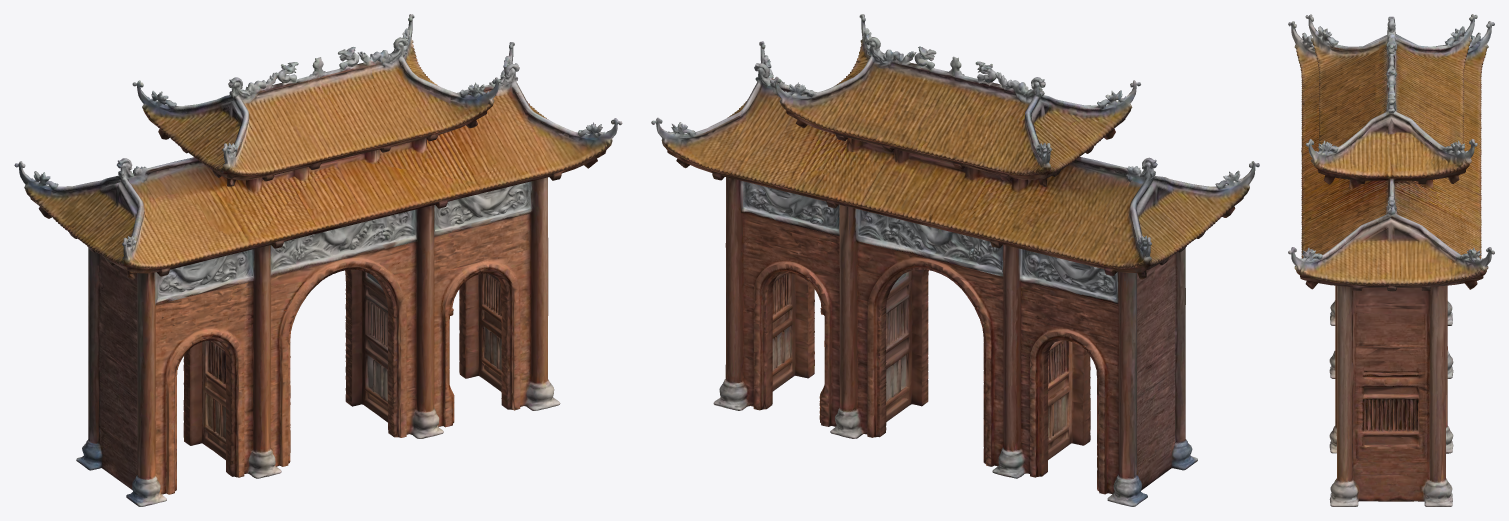
Rendered from gate.glb.
3 views of the same model, side by side, from view 1: azimuth 30°, elevation 25°; view 2: azimuth 150°, elevation 25°; view 3: azimuth 270°, elevation 25° (orthographic). The views are drawn at different scales.
Visible parts, largest first — view 1: tripo_node_91f42fc8-1ded-4e53-8700-d5019a66e008; view 2: tripo_node_91f42fc8-1ded-4e53-8700-d5019a66e008; view 3: tripo_node_91f42fc8-1ded-4e53-8700-d5019a66e008.
Part boxes in pixels (left/top/right/bottom): tripo_node_91f42fc8-1ded-4e53-8700-d5019a66e008: left=14, top=14, right=622, bottom=506; tripo_node_91f42fc8-1ded-4e53-8700-d5019a66e008: left=651, top=14, right=1259, bottom=506; tripo_node_91f42fc8-1ded-4e53-8700-d5019a66e008: left=1288, top=14, right=1494, bottom=506.
Size of the model in its own units: 0.981 by 0.7063 by 0.373.
Materials: 1 (1 with a texture image).
